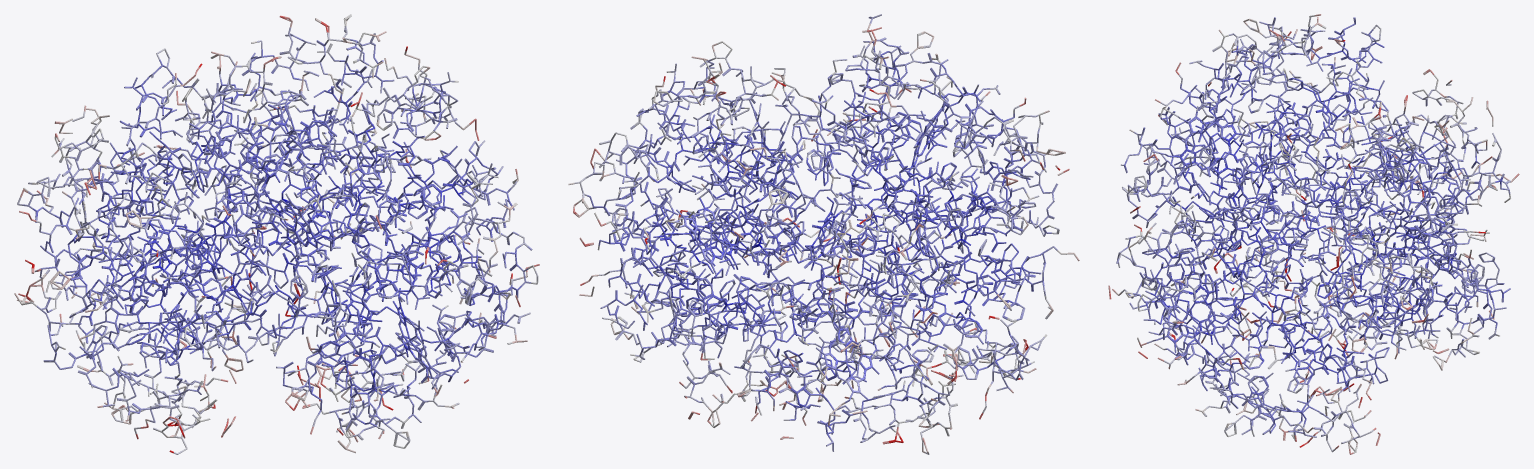
The model's file is 4hhb__lines__b-factor.glb.
3 renders of one model, left to right at view 1: azimuth 30°, elevation 25°; view 2: azimuth 150°, elevation 25°; view 3: azimuth 270°, elevation 25°, orthographic. The views are drawn at different scales.
Visible parts, largest first — view 1: Renderer Node; view 2: Renderer Node; view 3: Renderer Node.
Boxes of the visible parts, x1,y1,x2,y2 form: Renderer Node: [14, 14, 539, 454]; Renderer Node: [568, 14, 1079, 454]; Renderer Node: [1108, 14, 1519, 454].
Size of the model in its own units: 65.55 by 57.14 by 57.46.
